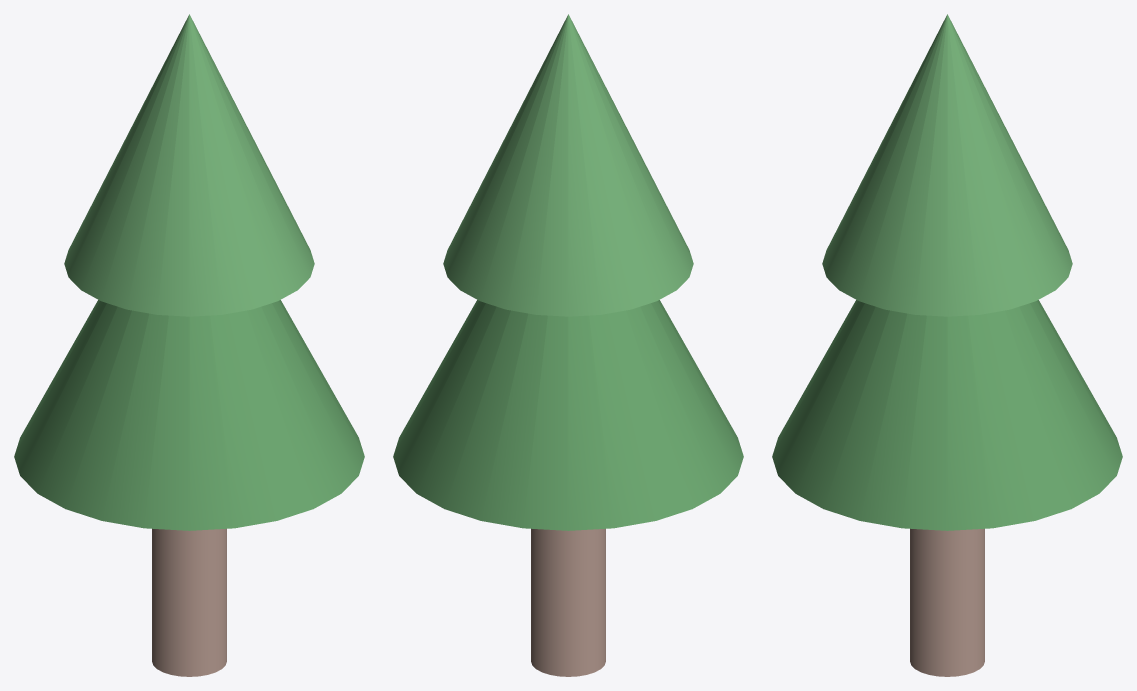
Rendered from Animao.glb.
The picture shows the model from 3 angles, left to right: view 1: azimuth 30°, elevation 25°; view 2: azimuth 150°, elevation 25°; view 3: azimuth 270°, elevation 25°; orthographic projection.
Bounding box in the file's own units: 0.3684 × 0.75 × 0.3684.
